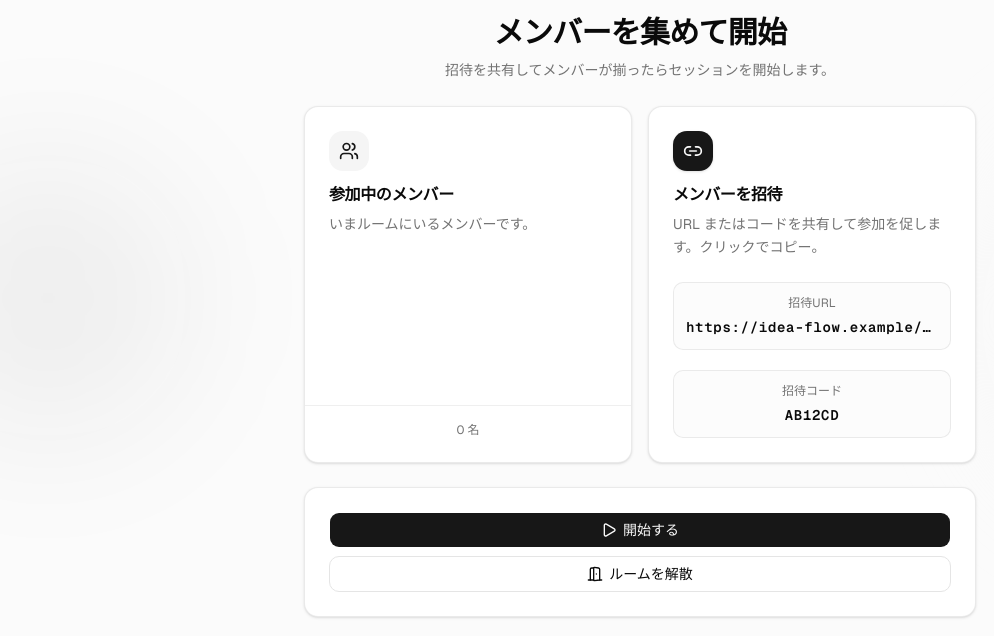
Test case: ユーザー操作 → プロトコルメッセージ送信 › 「開始する」クリック直後は isStarting=true でボタンが disabled になる
The image size is (994, 636).
Click the button with test id "start-phase-button" at {"x": 640, "y": 530}, box [329,512,951,548]
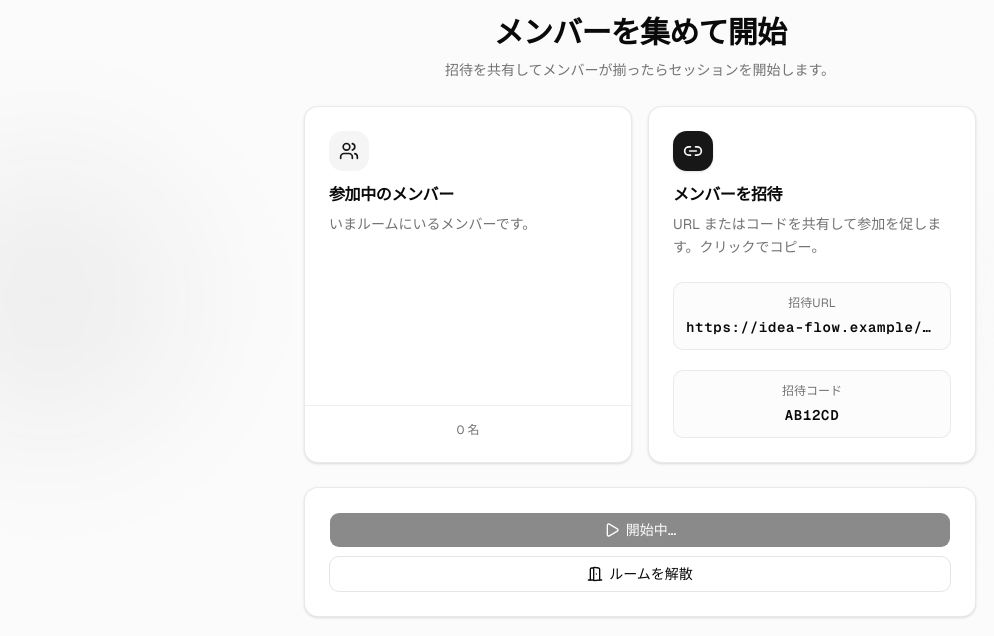
Now the button with test id "start-phase-button" is disabled, box [329,512,951,548]
Now the button with test id "start-phase-button" reads "開始中…", box [329,512,951,548]
